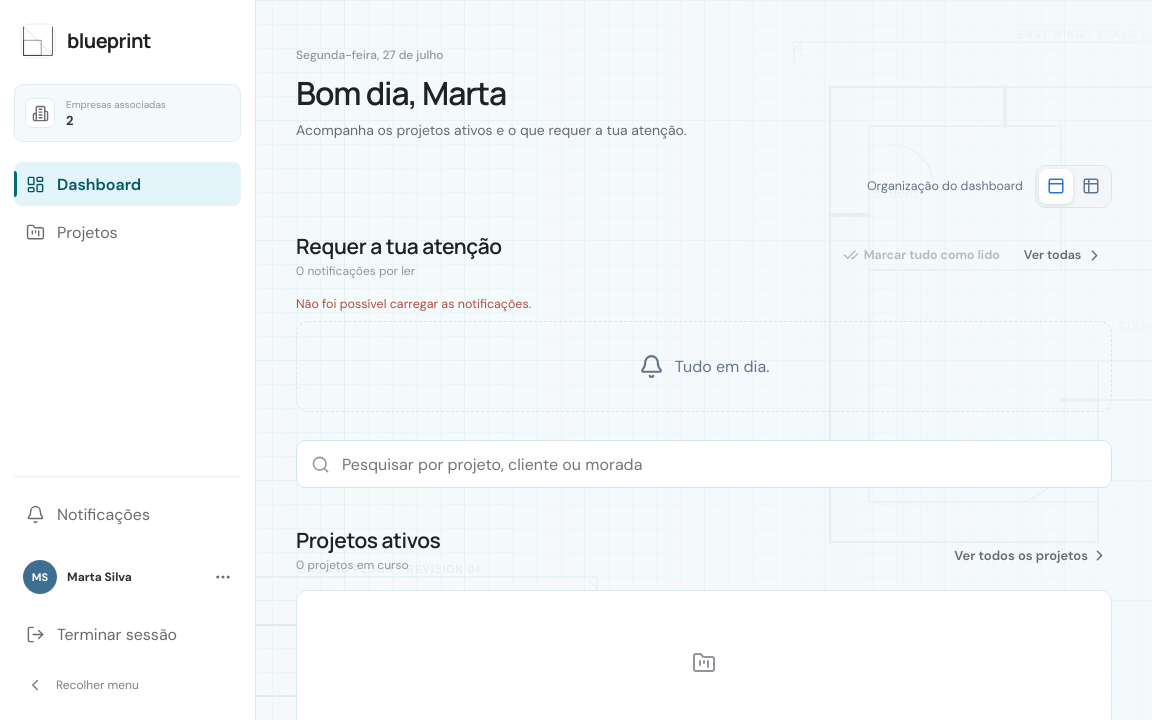
Test case: editable profile › uses the real client identity button to reach the client page from dashboard
Click the button "MS Marta Silva" at (128,577), box [14,548,241,606]
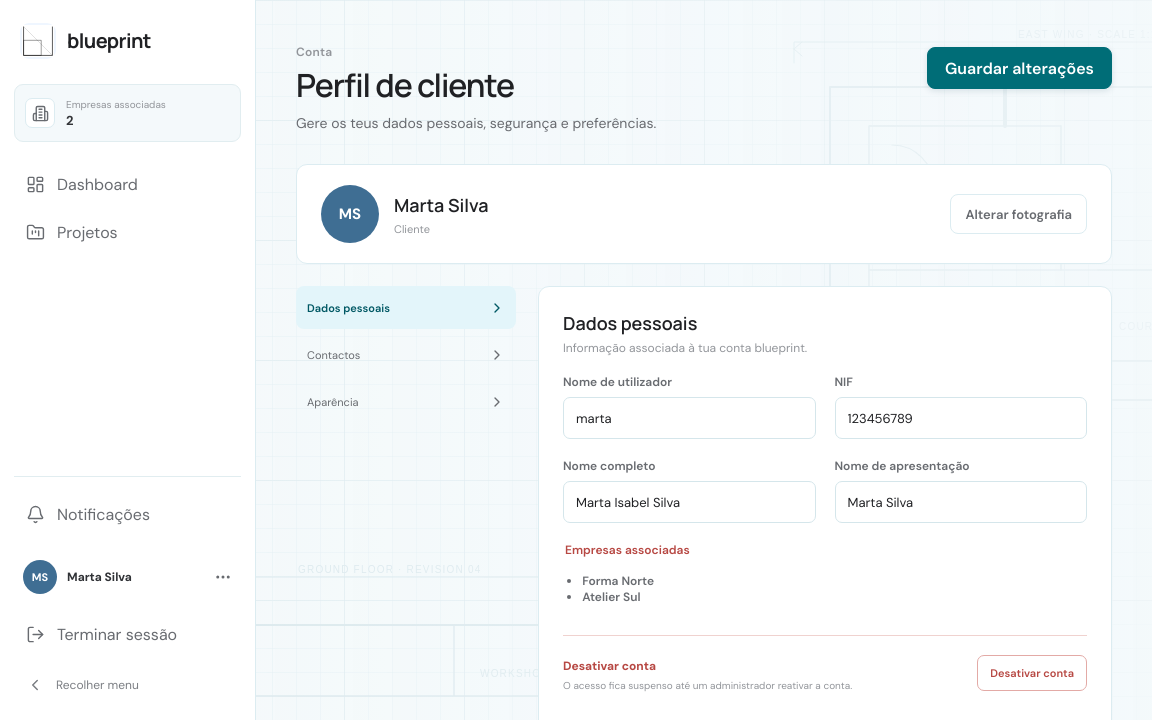
Expected: the heading "Perfil de cliente" is shown, [296,63,514,107]
Expected: the heading "Marta Silva" is shown, [394,192,488,216]
